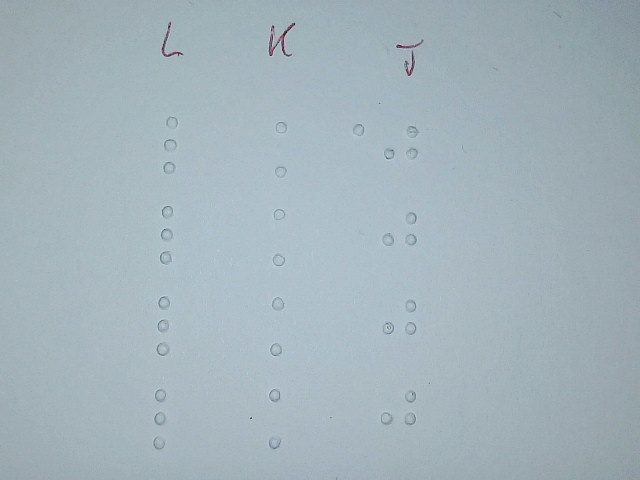K: (266, 118, 316, 183), (263, 204, 313, 269), (261, 294, 311, 359), (260, 385, 310, 450), (381, 118, 421, 180), (380, 204, 420, 266), (380, 293, 420, 355), (379, 383, 419, 445)
L: (156, 112, 206, 177), (152, 202, 202, 267), (149, 293, 199, 358), (145, 386, 195, 451)
